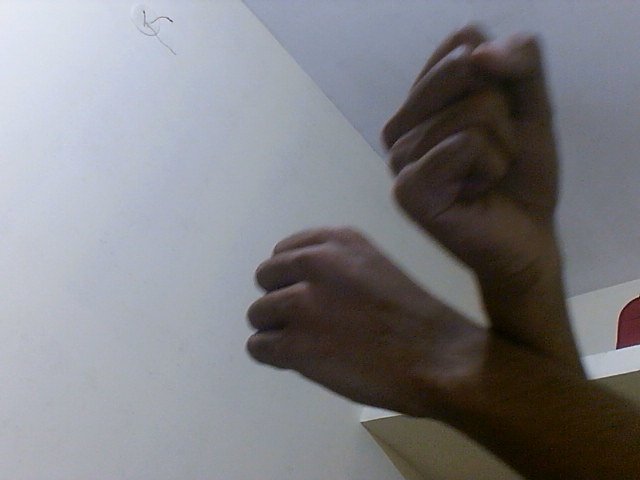hand: (375, 12, 569, 289), (245, 224, 502, 433)
